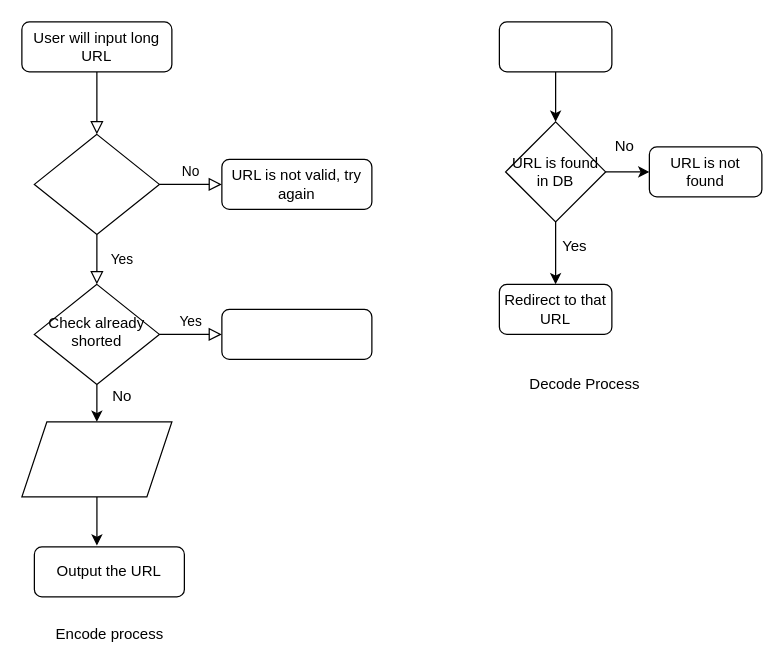
Some shapes in this 784 by 669 pixel diagram are drawn without their labels. Here are the shapes that lost their labels. From the top down, the centre of each, then its label:
At (x=555, y=46): "Take short URL".
At (x=96, y=183): "Check URL is valid/live".
At (x=296, y=333): "output the short URL from DB".
At (x=96, y=459): "make a short URL, save it to DB".
